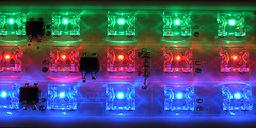LED: (45, 43, 82, 72), (106, 84, 139, 112), (105, 10, 139, 37)
